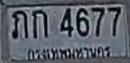4: (60, 7, 72, 36)
6: (75, 7, 88, 36)
7: (90, 7, 104, 36), (107, 6, 120, 35)
A01: (31, 9, 47, 38)
A32: (11, 10, 27, 38)
BKK: (24, 44, 114, 62)
